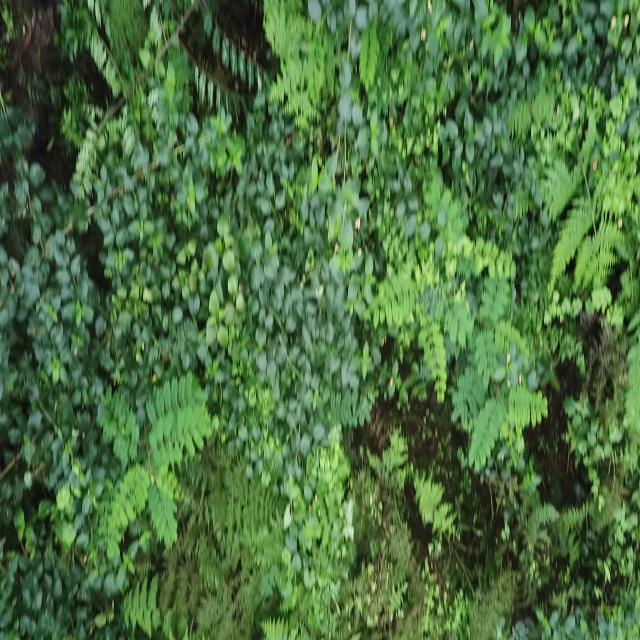Mysore-Thorn-Weed: (61, 0, 267, 187), (415, 250, 568, 488), (74, 366, 217, 568)
